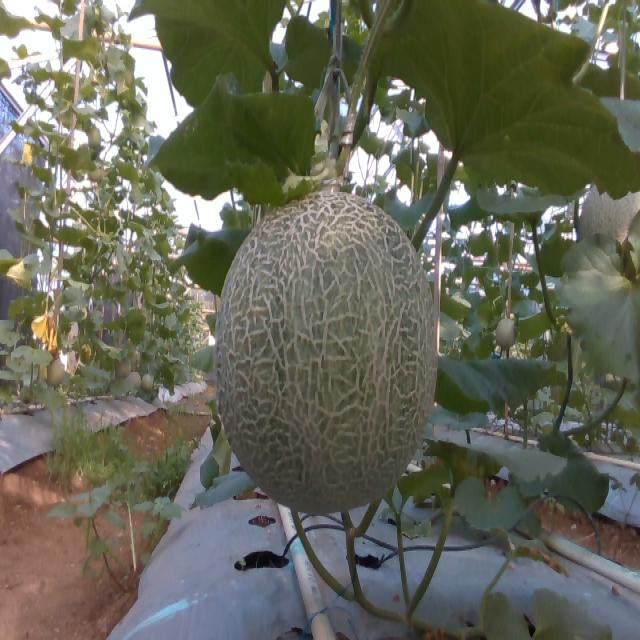melon: (216, 191, 437, 514)
